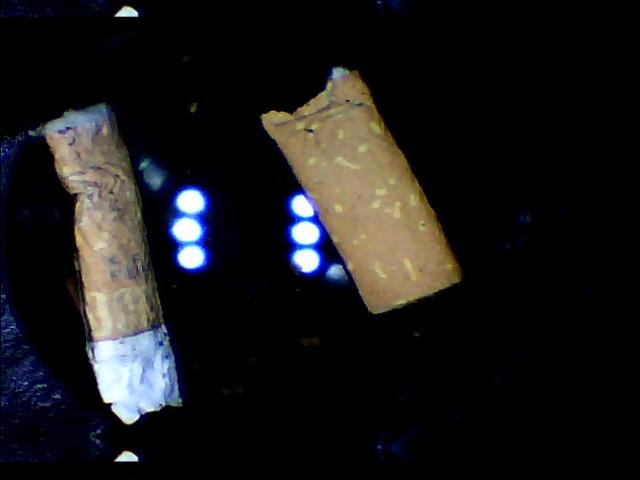megot: (230, 56, 482, 326), (26, 92, 214, 429)
